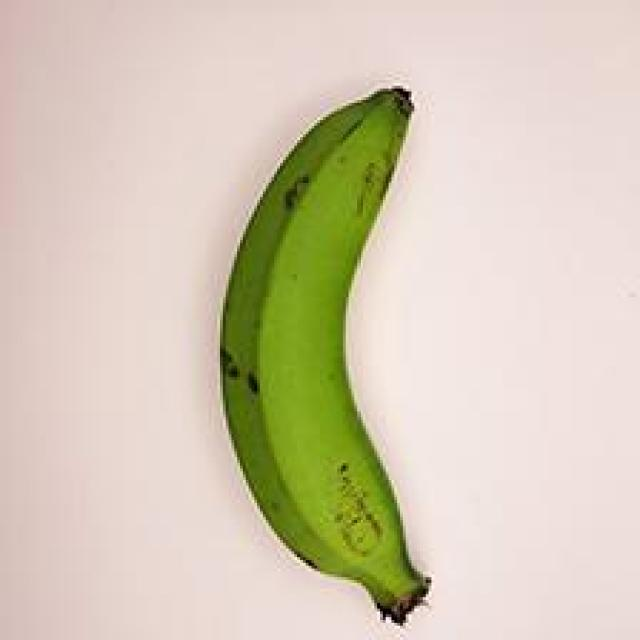Raw: (200, 65, 465, 640)
